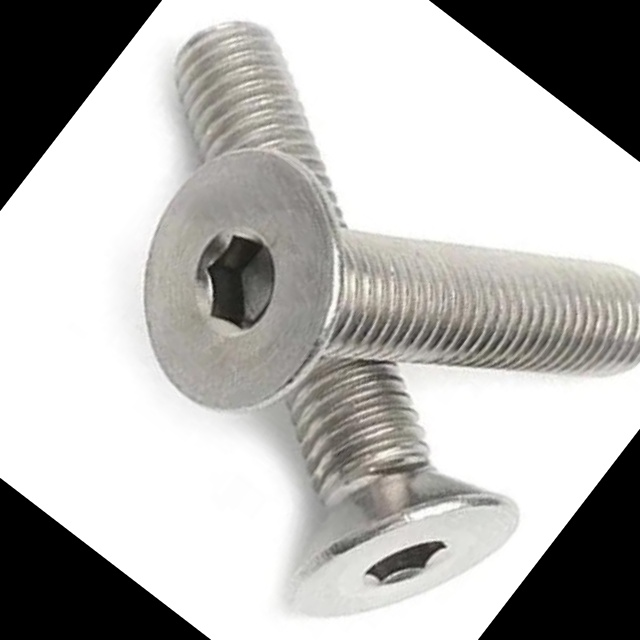allen: (79, 111, 408, 449), (269, 418, 532, 640)
